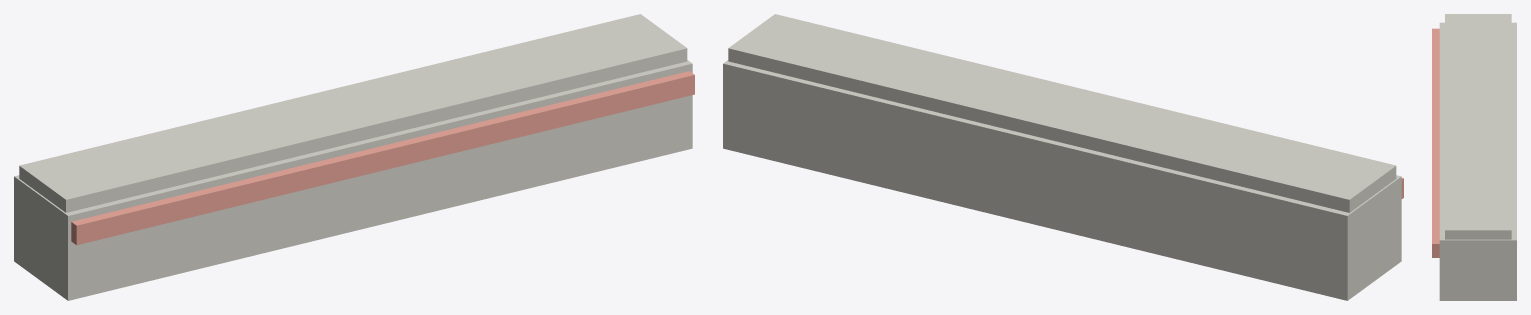
File: retro-diner-and-roadside-motel-kerb-module-7e64f5f7__37357.glb
3 views of the same model, side by side, from view 1: azimuth 30°, elevation 25°; view 2: azimuth 150°, elevation 25°; view 3: azimuth 270°, elevation 25° (orthographic). The views are drawn at different scales.
Visible parts, largest first — view 1: kerb-module-cream, kerb-module-coral; view 2: kerb-module-cream; view 3: kerb-module-cream, kerb-module-coral.
Boxes of the visible parts, box(x1,y1,x2,y2) form: kerb-module-cream: box(14, 14, 692, 300); kerb-module-coral: box(71, 71, 694, 245); kerb-module-cream: box(723, 14, 1401, 300); kerb-module-cream: box(1439, 14, 1516, 300); kerb-module-coral: box(1432, 28, 1439, 257).
Size of the model in its own units: 2 by 0.3001 by 0.33.
